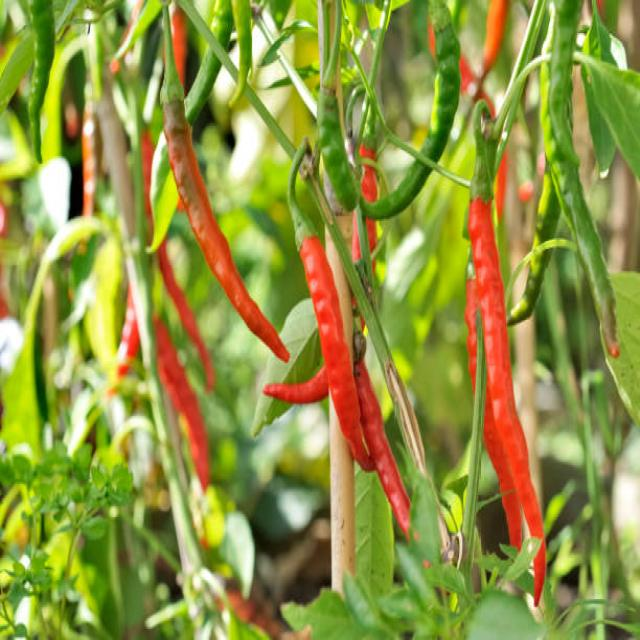Half-Ripe: (164, 98, 289, 361)
Ripe: (469, 196, 546, 604), (300, 236, 374, 470), (354, 362, 410, 536), (484, 388, 520, 547), (264, 367, 328, 403), (464, 269, 479, 387)
Unripe: (541, 3, 620, 357), (185, 0, 238, 123), (421, 0, 461, 161), (318, 87, 358, 211), (360, 160, 430, 220), (29, 0, 55, 161), (509, 251, 549, 324), (229, 0, 252, 106), (532, 166, 560, 248)
